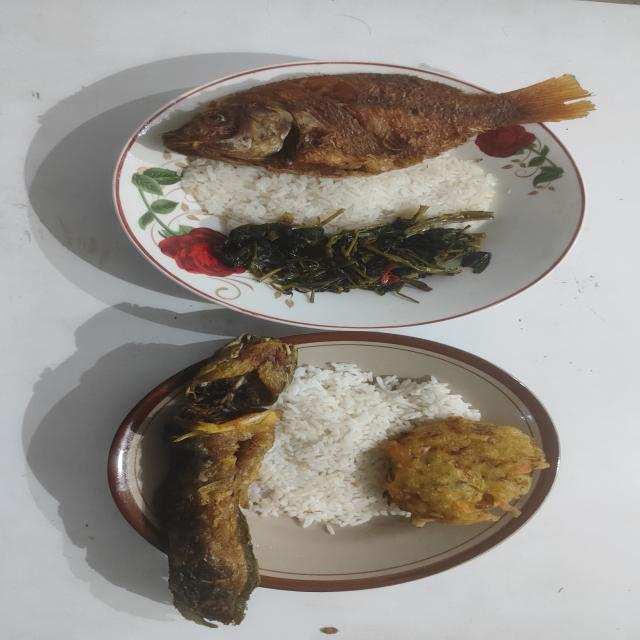ikan_mujair: (163, 74, 594, 176)
nasi_putih: (249, 362, 480, 534), (181, 153, 497, 232)
tumis_kangkung: (216, 206, 494, 302)
